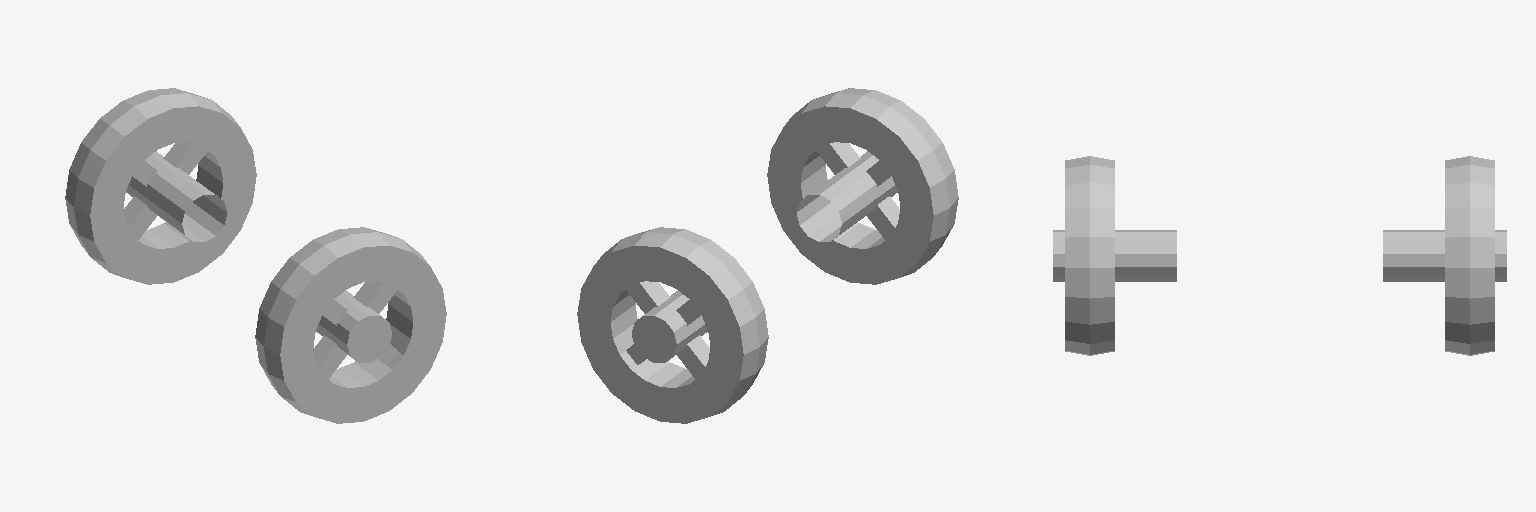
File: Cannon_Wheels.obj
3 views of the same model, side by side, from view 1: azimuth 30°, elevation 25°; view 2: azimuth 150°, elevation 25°; view 3: azimuth 270°, elevation 25° (orthographic).
Visible parts, largest first — view 1: Cannon_Wheels; view 2: Cannon_Wheels; view 3: Cannon_Wheels.
Part boxes in pixels (bbox=[...]): Cannon_Wheels: bbox=[65, 88, 446, 423]; Cannon_Wheels: bbox=[577, 88, 958, 423]; Cannon_Wheels: bbox=[1053, 156, 1506, 355].
Bounding box in the file's own units: 1.71 × 1.71 × 3.87.